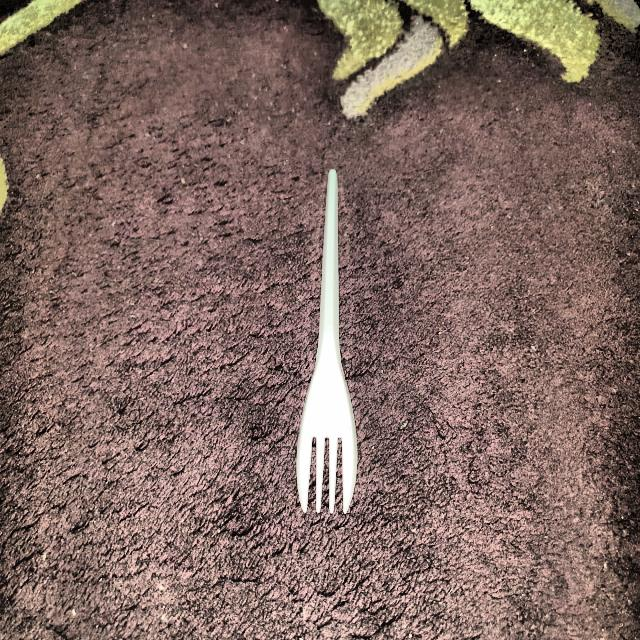plastic utensil: (292, 159, 361, 518)
